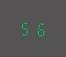five: (19, 19, 31, 36)
six: (32, 19, 44, 37)
